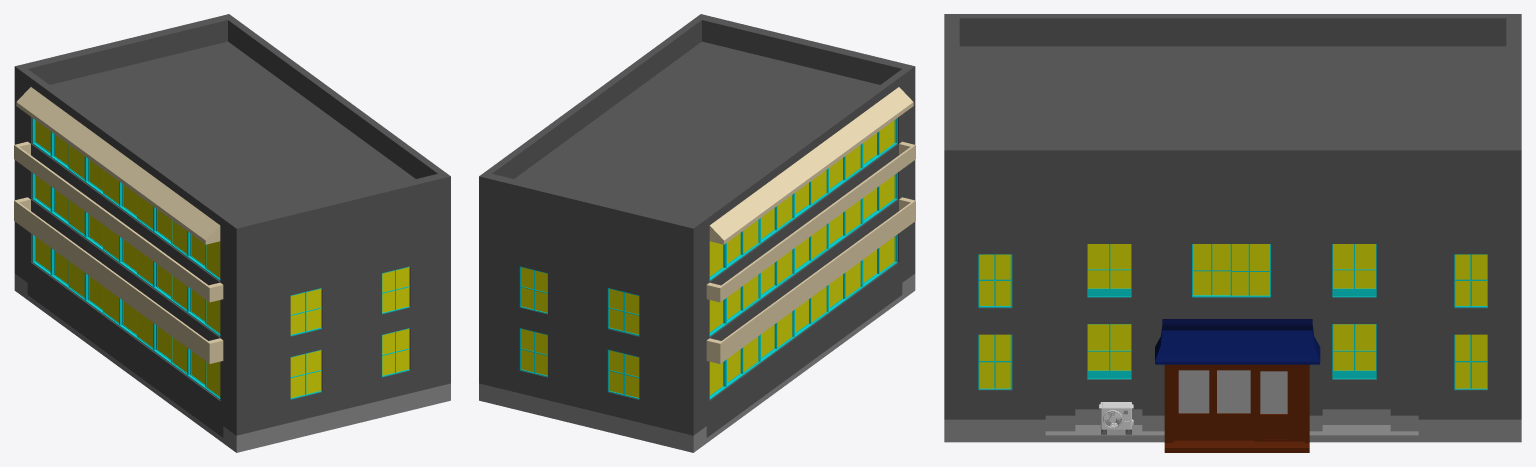
The model's file is building12.fbx.
3 views of the same model, side by side, from view 1: azimuth 30°, elevation 25°; view 2: azimuth 150°, elevation 25°; view 3: azimuth 270°, elevation 25° (orthographic). The views are drawn at different scales.
Visible parts, largest first — view 1: pCube188; view 2: pCube188; view 3: pCube188.
Boxes of the visible parts, bbox=[...] form: pCube188: bbox=[14, 14, 450, 452]; pCube188: bbox=[479, 14, 915, 452]; pCube188: bbox=[944, 14, 1521, 452].
Bounding box in the file's own units: 12.4 × 10.77 × 19.3.
